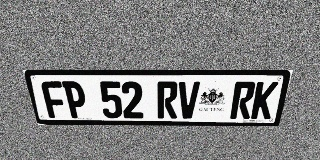2: (121, 81, 143, 118)
5: (99, 81, 123, 118)
F: (40, 81, 68, 118)
K: (250, 82, 279, 119)
P: (62, 81, 88, 118)
R: (230, 82, 257, 119), (157, 81, 178, 119)
V: (178, 81, 200, 119)
